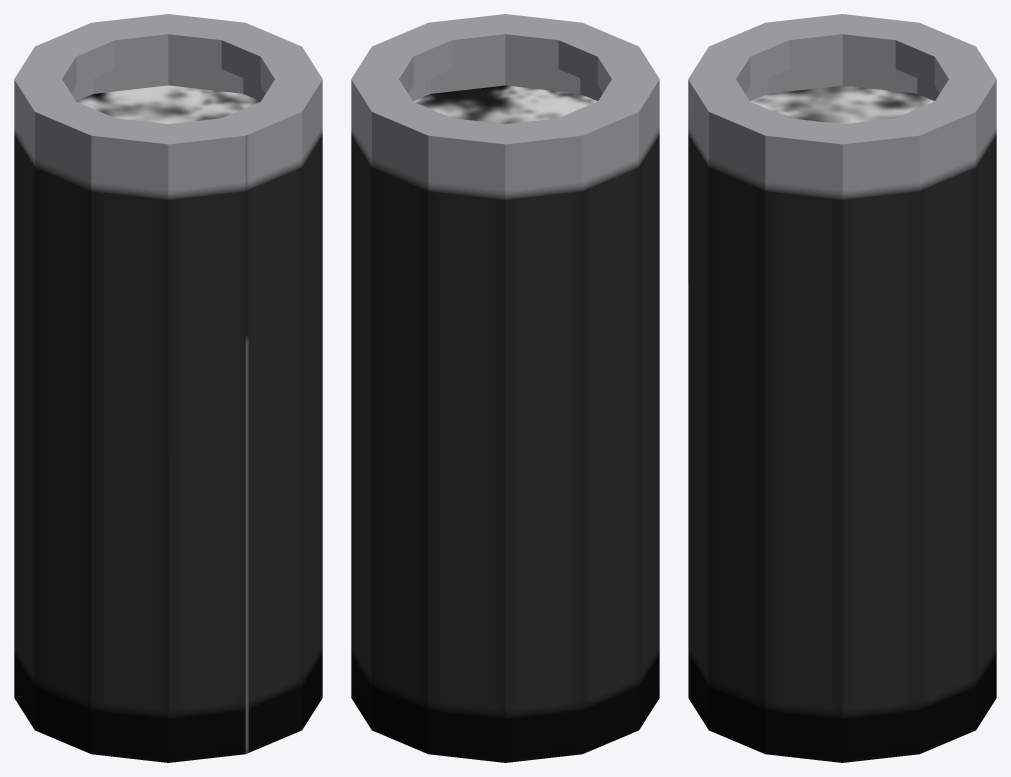
Rendered from TrashCan.fbx.
3 renders of one model, left to right at view 1: azimuth 30°, elevation 25°; view 2: azimuth 150°, elevation 25°; view 3: azimuth 270°, elevation 25°, orthographic.
Parts seen in each view (by area): view 1: Cylinder.013; view 2: Cylinder.013; view 3: Cylinder.013.
Boxes of the visible parts, x1,y1,x2,y2 form: Cylinder.013: [14, 14, 322, 762]; Cylinder.013: [351, 14, 659, 762]; Cylinder.013: [688, 14, 996, 762].
Size of the model in its own units: 211 by 466 by 211.
